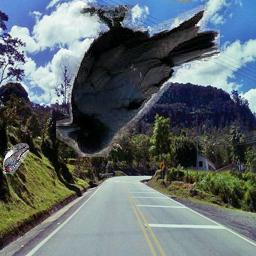Crow: (56, 5, 220, 157)
Swallow: (3, 144, 29, 175)
